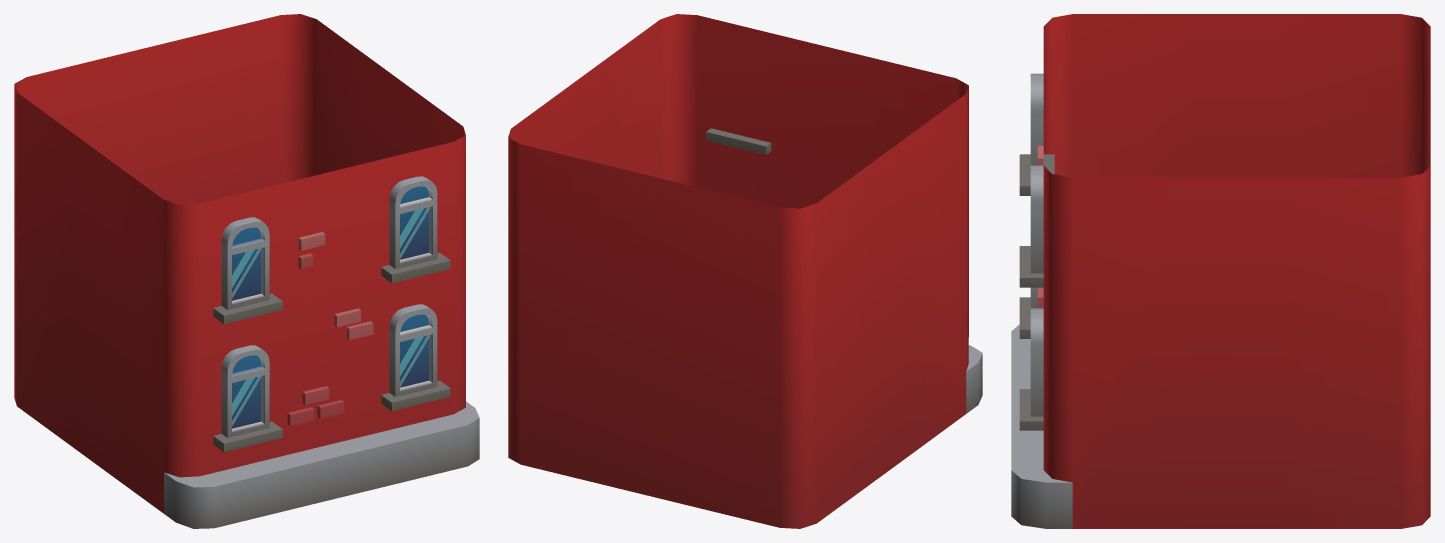
Rendered from House_1_middle.fbx.
3 renders of one model, left to right at view 1: azimuth 30°, elevation 25°; view 2: azimuth 150°, elevation 25°; view 3: azimuth 270°, elevation 25°, orthographic. The views are drawn at different scales.
Parts seen in each view (by area): view 1: Cube.003; view 2: Cube.003; view 3: Cube.003.
Part boxes in pixels (box(x1,y1,x2,y2)): Cube.003: box(14, 14, 479, 528); Cube.003: box(508, 14, 982, 528); Cube.003: box(1011, 14, 1430, 528).
Bounding box in the file's own units: 100 × 100 × 108.
